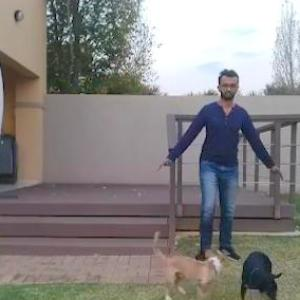land: (156, 68, 274, 272)
